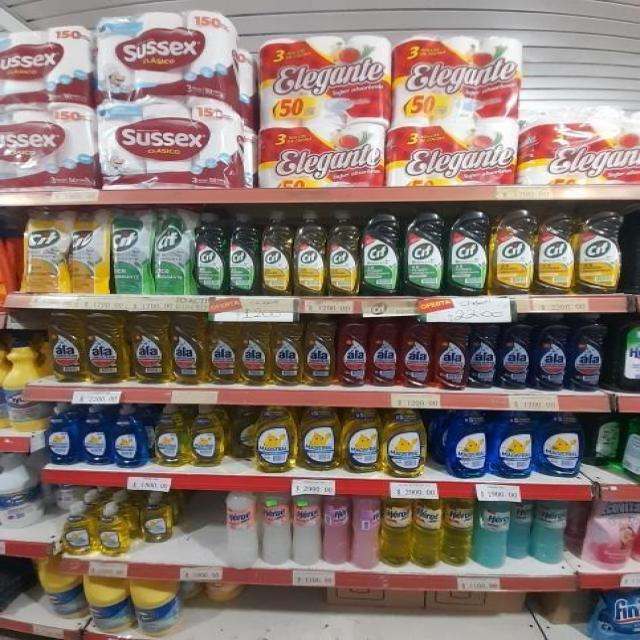ala_conc_amarillo: (86, 311, 129, 384), (130, 312, 170, 384), (46, 311, 85, 384), (172, 312, 206, 386), (304, 314, 336, 387), (208, 315, 239, 386), (272, 315, 302, 387), (240, 316, 270, 387)
ala_conc_azul: (570, 313, 607, 393), (533, 314, 568, 392), (499, 314, 532, 391), (469, 319, 498, 391)
ala_conc_rojo: (434, 319, 468, 392), (400, 316, 432, 390), (337, 314, 368, 388), (369, 316, 400, 388)
cif_conc_bot_amarilla: (576, 209, 624, 295), (491, 208, 535, 295), (537, 208, 575, 295), (327, 210, 359, 297), (294, 210, 326, 297), (260, 210, 292, 296)
cif_conc_botella_verde: (447, 209, 488, 297), (404, 211, 444, 297), (362, 211, 400, 297), (194, 212, 227, 295), (229, 212, 259, 296), (629, 203, 640, 293)
cif_conc_sachet_amarillo: (21, 207, 68, 294)
cif_conc_sachet_verde: (154, 206, 192, 296)
heroe: (223, 490, 258, 566), (260, 491, 292, 565), (381, 494, 411, 568), (443, 495, 473, 568), (412, 495, 441, 569), (292, 492, 321, 566), (322, 493, 350, 565)
magistral_con_amarillo: (383, 408, 427, 477), (254, 406, 297, 473), (299, 406, 340, 472), (342, 407, 380, 474), (153, 404, 189, 468), (190, 405, 226, 467), (62, 501, 94, 556), (97, 503, 130, 556), (140, 492, 173, 543)
magistral_con_azul: (490, 409, 534, 479), (536, 411, 582, 477), (446, 408, 488, 479), (112, 404, 148, 468), (46, 403, 78, 466), (81, 404, 110, 466)
